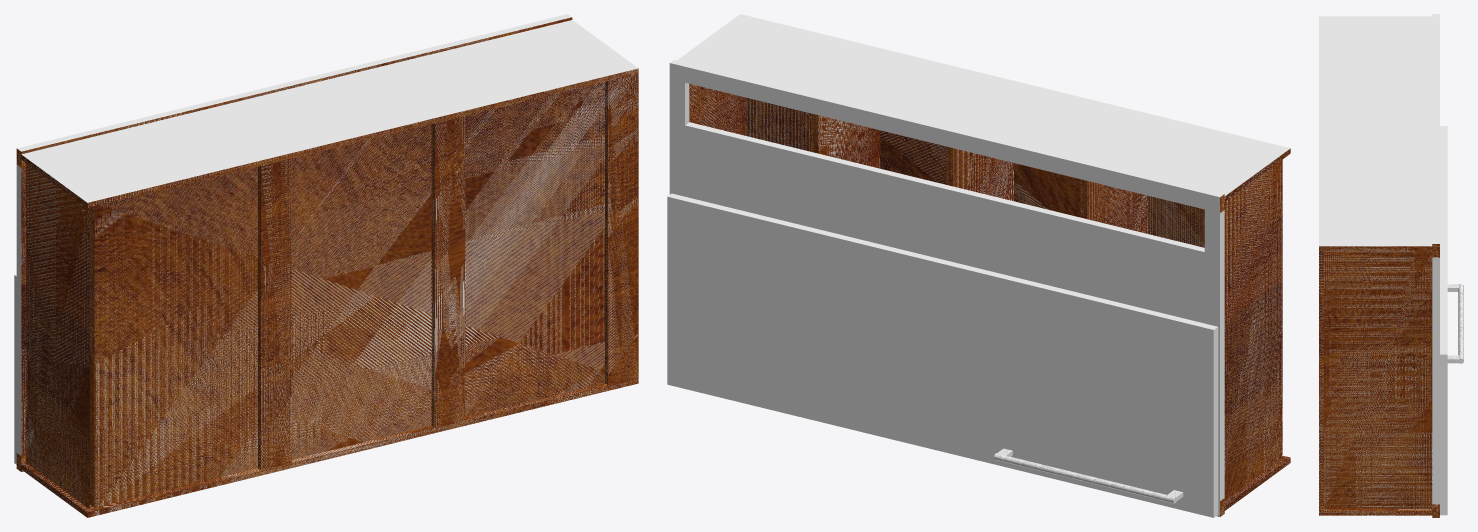
3 views of the same model, side by side, from view 1: azimuth 30°, elevation 25°; view 2: azimuth 150°, elevation 25°; view 3: azimuth 270°, elevation 25° (orthographic). The views are drawn at different scales.
Visible parts, largest first — view 1: mesh6_mesh6-geometry, mesh8_mesh8-geometry, mesh3_mesh3-geometry, mesh1_mesh1-geometry, mesh7_mesh7-geometry, mesh9_mesh9-geometry, mesh4_mesh4-geometry, mesh2_mesh2-geometry; view 2: mesh13_mesh13-geometry, mesh11_mesh11-geometry, mesh8_mesh8-geometry, mesh1_mesh1-geometry, mesh9_mesh9-geometry, mesh5_mesh5-geometry, mesh12_mesh12-geometry, mesh4_mesh4-geometry, mesh14_mesh14-geometry, mesh7_mesh7-geometry; view 3: mesh2_mesh2-geometry, mesh8_mesh8-geometry, mesh13_mesh13-geometry, mesh4_mesh4-geometry, mesh9_mesh9-geometry, mesh3_mesh3-geometry, mesh7_mesh7-geometry, mesh14_mesh14-geometry.
Boxes of the visible parts, x1,y1,x2,y2 form: mesh6_mesh6-geometry: [94, 82, 604, 507]; mesh8_mesh8-geometry: [21, 20, 638, 208]; mesh3_mesh3-geometry: [258, 74, 638, 470]; mesh1_mesh1-geometry: [26, 163, 89, 508]; mesh7_mesh7-geometry: [21, 378, 638, 517]; mesh9_mesh9-geometry: [16, 14, 572, 167]; mesh4_mesh4-geometry: [16, 165, 26, 455]; mesh2_mesh2-geometry: [89, 206, 94, 507]; mesh13_mesh13-geometry: [667, 193, 1218, 517]; mesh11_mesh11-geometry: [685, 122, 1204, 323]; mesh8_mesh8-geometry: [677, 14, 1290, 201]; mesh1_mesh1-geometry: [689, 84, 1282, 500]; mesh9_mesh9-geometry: [669, 60, 1224, 212]; mesh5_mesh5-geometry: [745, 97, 1204, 247]; mesh12_mesh12-geometry: [811, 113, 1148, 233]; mesh4_mesh4-geometry: [669, 79, 1224, 500]; mesh14_mesh14-geometry: [994, 453, 1176, 503]; mesh7_mesh7-geometry: [1224, 455, 1290, 510]; mesh2_mesh2-geometry: [1324, 251, 1432, 508]; mesh8_mesh8-geometry: [1319, 16, 1432, 250]; mesh13_mesh13-geometry: [1440, 126, 1447, 515]; mesh4_mesh4-geometry: [1432, 257, 1439, 504]; mesh9_mesh9-geometry: [1432, 14, 1439, 257]; mesh3_mesh3-geometry: [1319, 251, 1323, 510]; mesh7_mesh7-geometry: [1319, 509, 1432, 515]; mesh14_mesh14-geometry: [1458, 283, 1463, 363].
Bounding box in the file's own units: 0.8514 × 0.473 × 0.2266.
